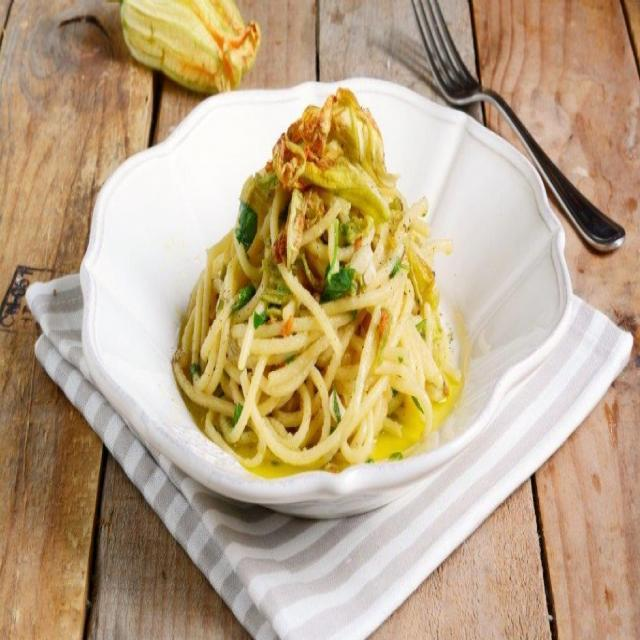Oil pasta: (195, 49, 515, 483)
